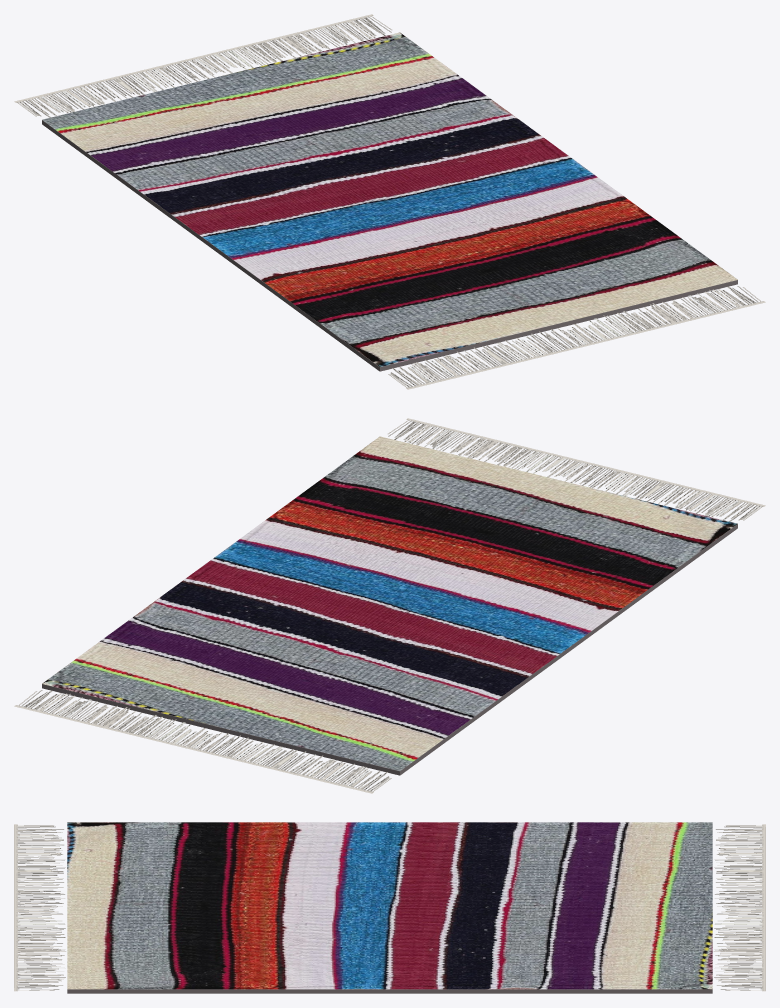
The picture shows the model from 3 angles, top to bottom: view 1: azimuth 30°, elevation 25°; view 2: azimuth 150°, elevation 25°; view 3: azimuth 270°, elevation 25°; orthographic projection. The views are drawn at different scales.
Visible parts, largest first — view 1: rug, fringeB, fringeA, side; view 2: rug, fringeA, fringeB, side; view 3: rug, fringeA, fringeB, side.
Part boxes in pixels (box(x1,y1,x2,y2)): rug: box(42, 32, 737, 366); fringeB: box(388, 286, 765, 389); fringeA: box(14, 14, 391, 117); side: box(42, 120, 737, 371); rug: box(42, 436, 737, 770); fringeA: box(14, 690, 391, 793); fringeB: box(388, 418, 765, 521); side: box(42, 524, 737, 775); rug: box(67, 822, 712, 989); fringeA: box(714, 824, 765, 991); fringeB: box(14, 824, 65, 991); side: box(67, 989, 712, 993).
Size of what is drawn, in the model's own units: 0.52 by 0.00614 by 0.99.
2 materials, 2 textured.
